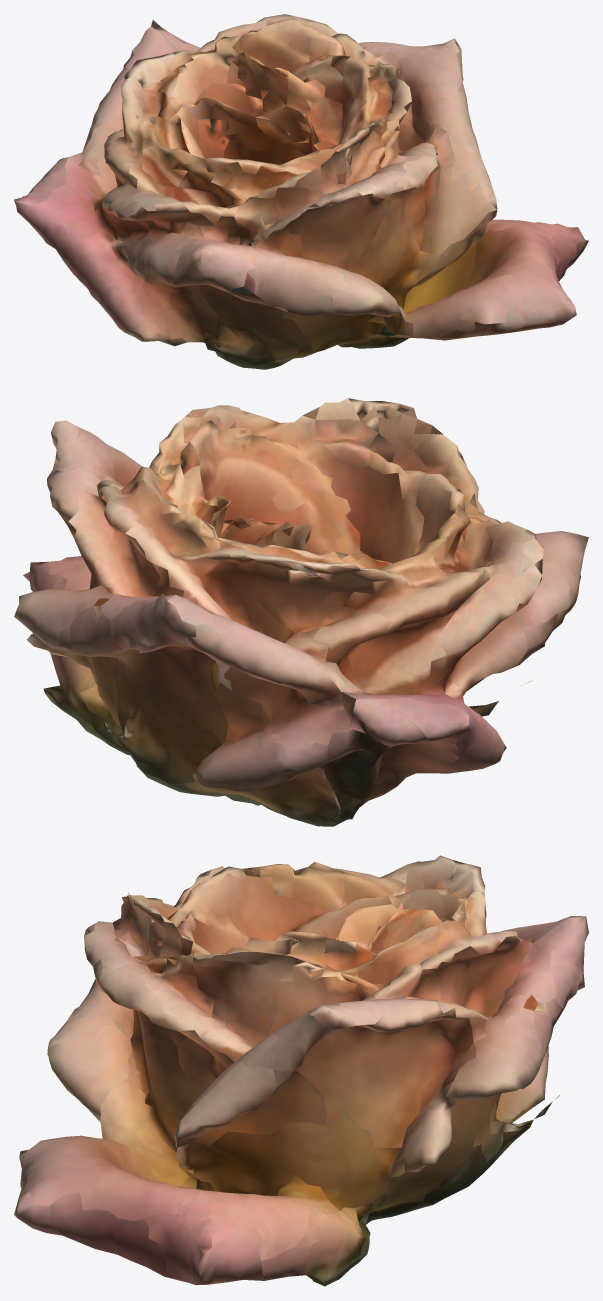
3 views of the same model, one above another, from view 1: azimuth 30°, elevation 25°; view 2: azimuth 150°, elevation 25°; view 3: azimuth 270°, elevation 25° (orthographic). The views are drawn at different scales.
Parts seen in each view (by area): view 1: 684af405; view 2: 684af405; view 3: 684af405.
Boxes of the visible parts, x1,y1,x2,y2 form: 684af405: [14, 14, 588, 369]; 684af405: [14, 398, 588, 826]; 684af405: [14, 855, 588, 1286].
Bounding box in the file's own units: 0.0853 × 0.0475 × 0.0762.
1 material, 1 textured.
